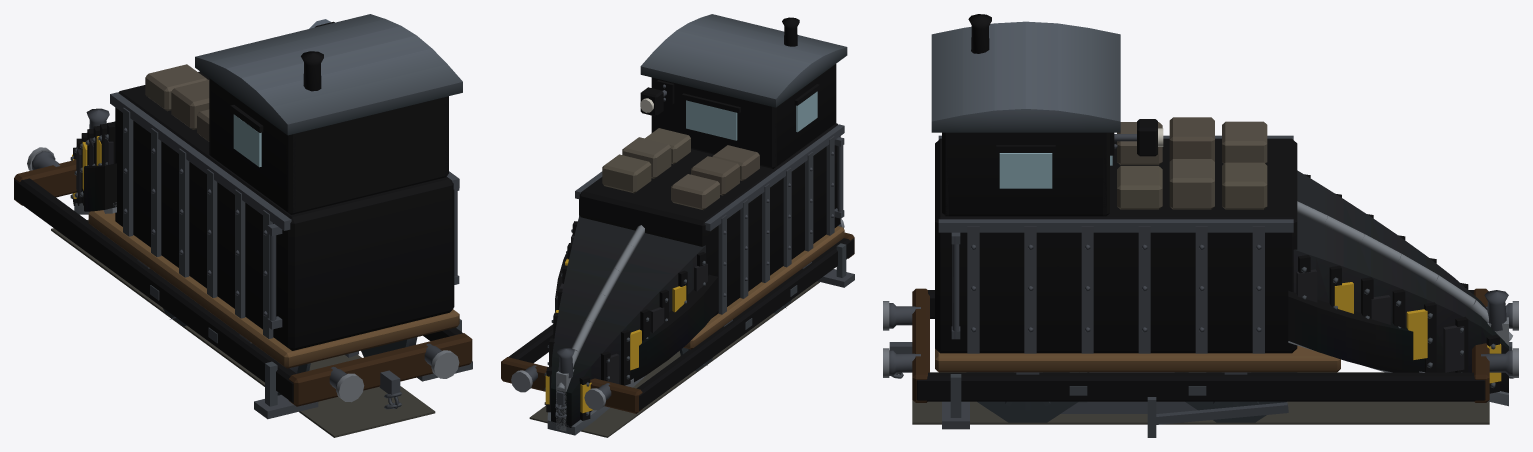
Rendered from snowplough.glb.
3 renders of one model, left to right at view 1: azimuth 30°, elevation 25°; view 2: azimuth 150°, elevation 25°; view 3: azimuth 270°, elevation 25°, orthographic. The views are drawn at different scales.
Parts seen in each view (by area): view 1: snowplough; view 2: snowplough; view 3: snowplough.
Boxes of the visible parts, <box> form: snowplough: <box>14,14,472,437</box>; snowplough: <box>501,14,854,437</box>; snowplough: <box>883,14,1518,437</box>.
Size of the model in its own units: 1.38 by 2.3 by 3.63.
